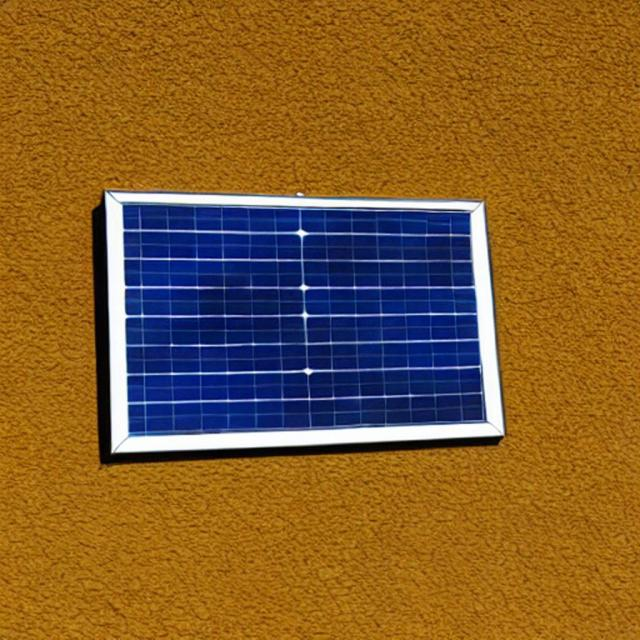no faulty: (119, 197, 484, 420)
